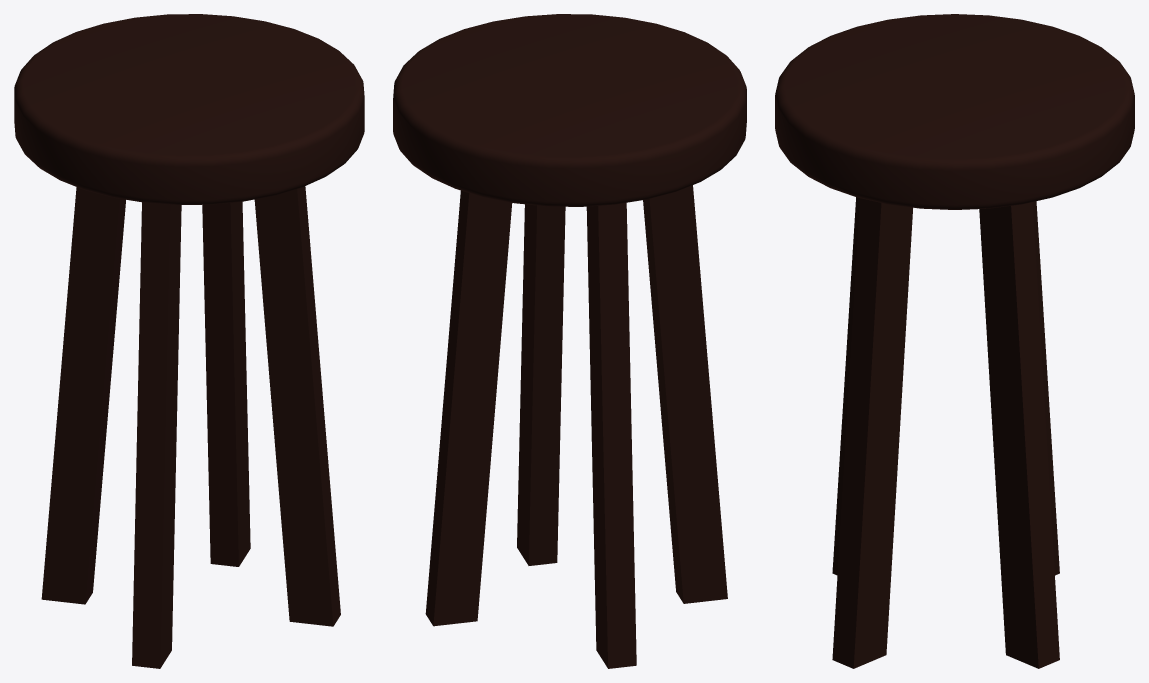
Rendered from bar chair.fbx.
3 views of the same model, side by side, from view 1: azimuth 30°, elevation 25°; view 2: azimuth 150°, elevation 25°; view 3: azimuth 270°, elevation 25° (orthographic). The views are drawn at different scales.
Parts seen in each view (by area): view 1: Seat, Leg, Leg.001, Leg.003, Leg.002; view 2: Seat, Leg.002, Leg.003, Leg.001, Leg; view 3: Seat, Leg, Leg.002, Leg.003, Leg.001.
Boxes of the visible parts, left/top/right/bottom form: Seat: left=14, top=14, right=364, bottom=204; Leg: left=254, top=186, right=340, bottom=626; Leg.001: left=41, top=187, right=125, bottom=604; Leg.003: left=132, top=202, right=181, bottom=668; Leg.002: left=202, top=201, right=250, bottom=566; Seat: left=393, top=14, right=746, bottom=206; Leg.002: left=425, top=190, right=512, bottom=626; Leg.003: left=643, top=185, right=727, bottom=603; Leg.001: left=586, top=202, right=636, bottom=668; Leg: left=517, top=204, right=565, bottom=565; Seat: left=775, top=14, right=1134, bottom=209; Leg: left=832, top=198, right=912, bottom=668; Leg.002: left=979, top=202, right=1059, bottom=668; Leg.003: left=832, top=197, right=859, bottom=575; Leg.001: left=1032, top=201, right=1059, bottom=575.
Size of the model in its own units: 60 by 97.74 by 60.
